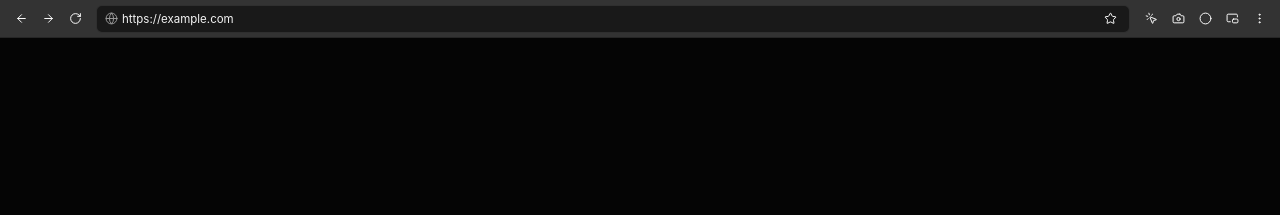
Test: BrowserSurface native hosting › does not shove the native page down when more actions open
Click the button named "More browser actions" at (1259, 18), box [1246,6,1272,32]
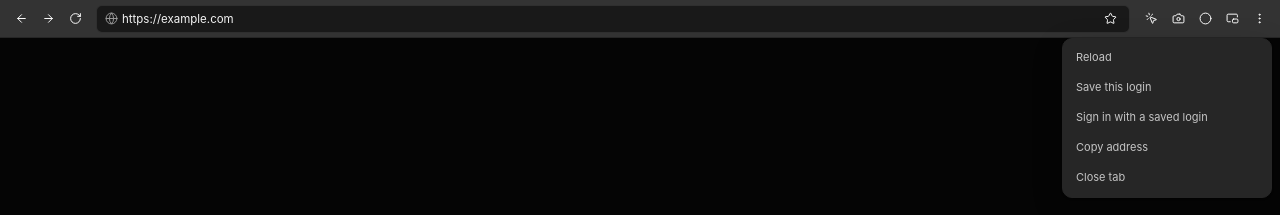
Result: the menu is shown at [1062,38,1272,198]
